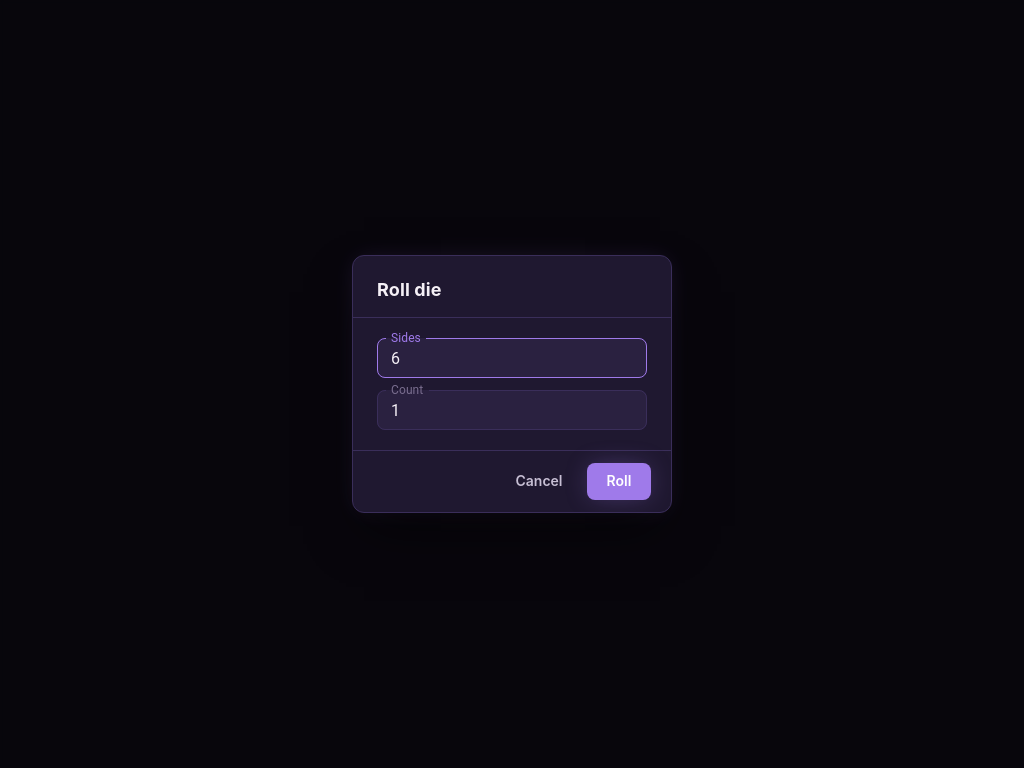
Test: RollDieDialog › rejects sides < 1 and surfaces the error on the Sides field
Replace the text in the field labelled "Sides" with "0" at (512, 358), box [377,338,647,378]
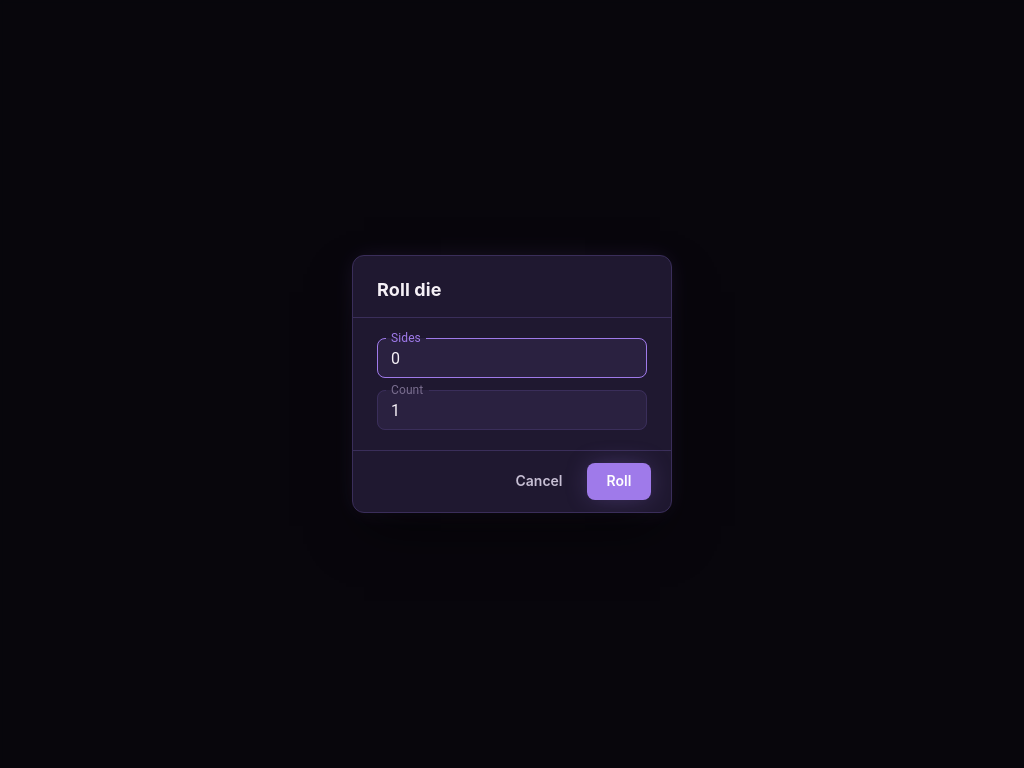
Click the button "Roll" at (619, 481), box [587,463,651,500]
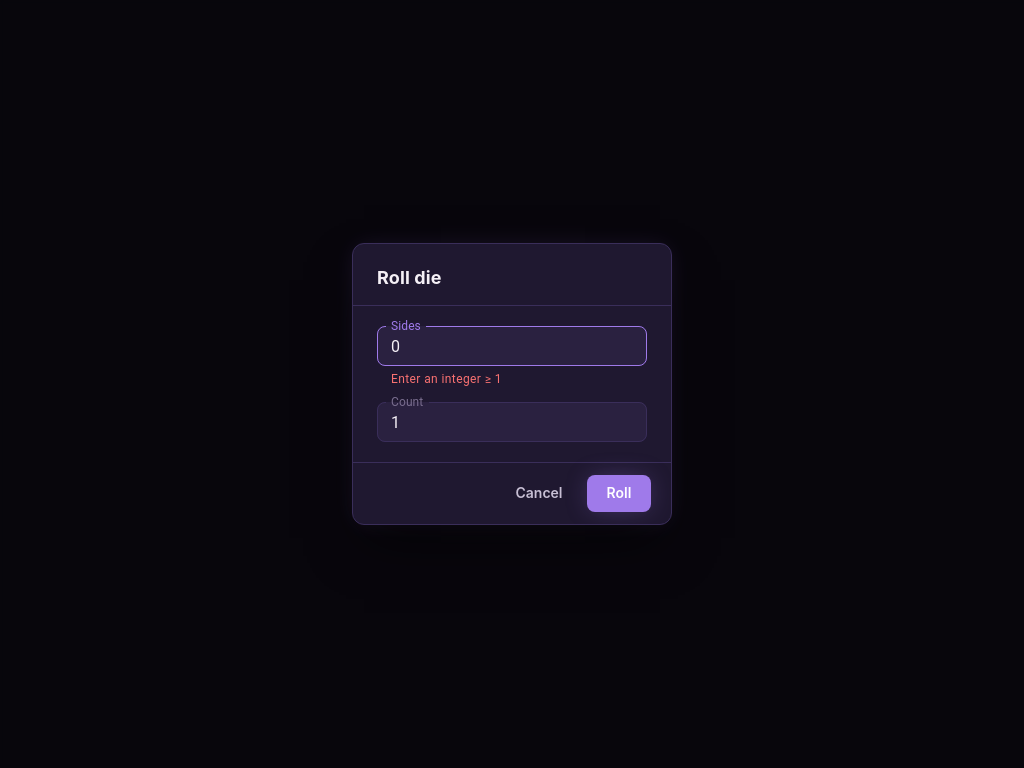
Result: the text "Enter an integer ≥ 1" is shown at [391,372,502,386]
